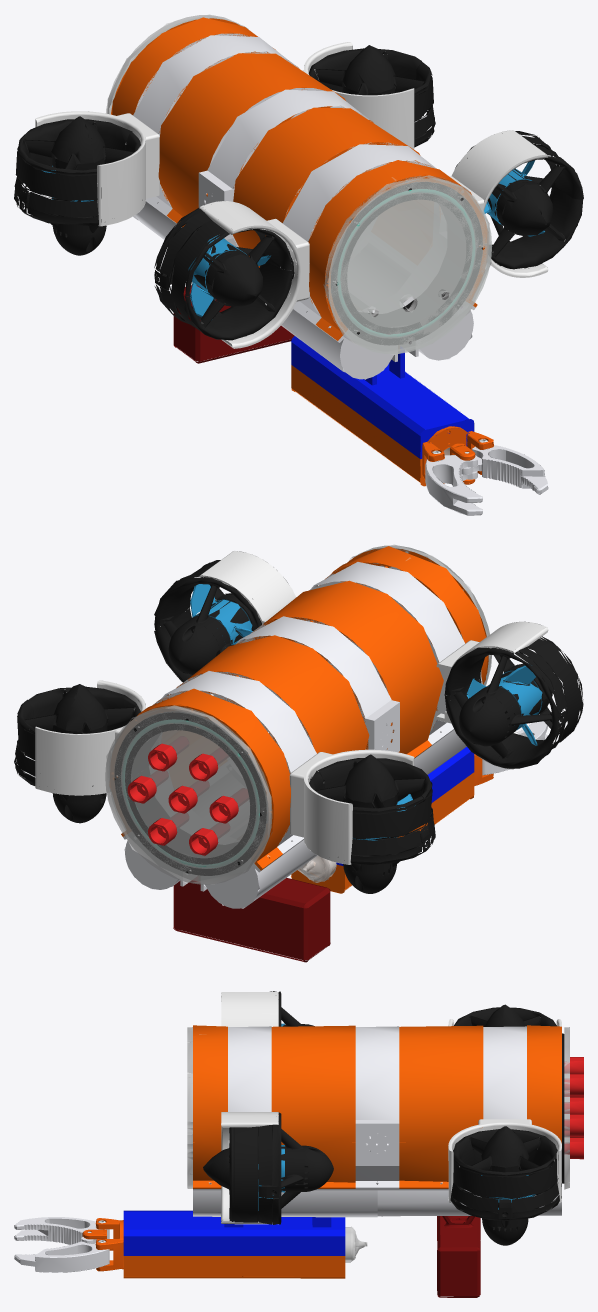
File: Gripper_new_final_3.glb
3 renders of one model, top to bottom at view 1: azimuth 30°, elevation 25°; view 2: azimuth 150°, elevation 25°; view 3: azimuth 270°, elevation 25°, orthographic. The views are drawn at different scales.
Visible parts, largest first — view 1: Solid2.011, Solid15.003, Solid1.004, Solid15, Solid1.003, Solid2.019, Solid15.002, Solid1.002, Solid15.001, Solid2.001, Solid15.008, Solid2.002 (+18 smaller); view 2: Solid2.010, Solid1.003, Solid1.004, Solid15, Solid2.005, Solid15.003, Solid2.001, Solid15.001, Solid2.007, Solid1.005, Solid15.007, Solid15.008 (+30 smaller); view 3: Solid1.004, Solid1.003, Solid2.019, Solid15.001, Solid2.001, Solid15.002, Solid1.008, Solid1.002, Solid2.002, Solid2, Solid1.005, Solid2.005 (+17 smaller).
Boxes of the visible parts, x1,y1,x2,y2 form: Solid2.011: (323, 175, 492, 354); Solid15.003: (154, 205, 294, 340); Solid1.004: (158, 51, 345, 227); Solid15: (14, 116, 142, 225); Solid1.003: (233, 106, 420, 267); Solid2.019: (291, 336, 474, 458); Solid15.002: (455, 131, 583, 269); Solid1.002: (308, 160, 487, 340); Solid15.001: (308, 45, 435, 147); Solid2.001: (198, 88, 371, 247); Solid15.008: (35, 111, 159, 226); Solid2.002: (124, 33, 298, 216); Solid2.010: (105, 705, 272, 884); Solid1.003: (244, 580, 443, 757); Solid1.004: (170, 635, 369, 754); Solid15: (308, 754, 435, 864); Solid2.005: (173, 878, 330, 962); Solid15.003: (444, 636, 583, 768); Solid2.001: (236, 616, 399, 752); Solid15.001: (14, 684, 140, 786); Solid2.007: (114, 712, 266, 875); Solid1.005: (112, 688, 290, 870); Solid15.007: (35, 680, 145, 795); Solid15.008: (289, 749, 414, 864); Solid1.004: (399, 1025, 483, 1188); Solid1.003: (271, 1025, 355, 1188); Solid2.019: (123, 1210, 345, 1255); Solid15.001: (450, 1126, 561, 1220); Solid2.001: (355, 1026, 399, 1188); Solid15.002: (203, 1112, 281, 1224); Solid1.008: (123, 1256, 345, 1278); Solid1.002: (193, 1025, 227, 1188); Solid2.002: (483, 1026, 526, 1127); Solid2: (228, 1026, 271, 1111); Solid1.005: (527, 1025, 561, 1143); Solid2.005: (437, 1216, 480, 1297).
Bounding box in the file's own units: 0.3467 × 0.2254 × 0.4914.
